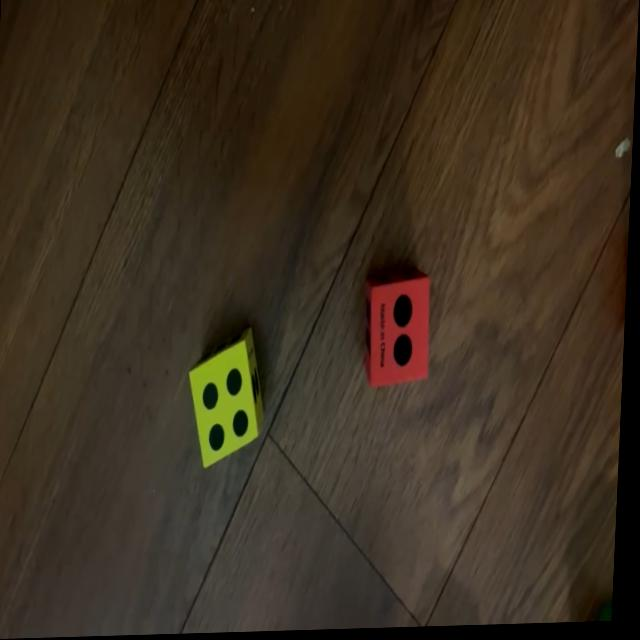cube: (364, 278, 435, 390)
